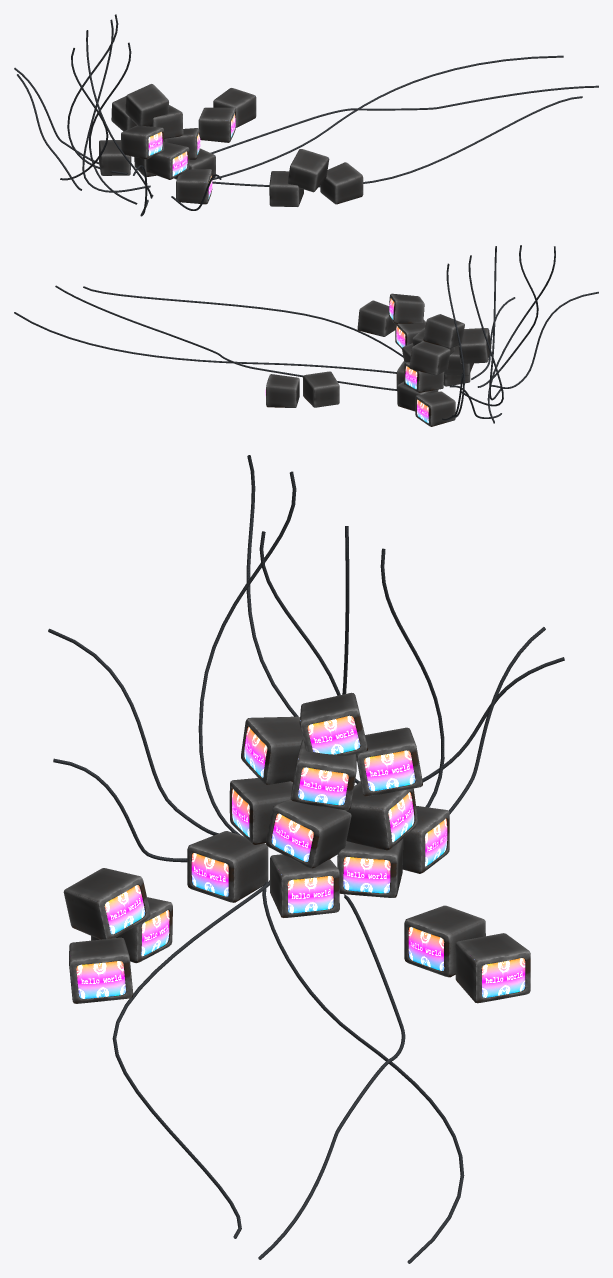
Rendered from white_box_television.fbx.
The picture shows the model from 3 angles, top to bottom: view 1: azimuth 30°, elevation 25°; view 2: azimuth 150°, elevation 25°; view 3: azimuth 270°, elevation 25°; orthographic projection. The views are drawn at different scales.
Parts seen in each view (by area): view 1: televison, cables, glass; view 2: televison, cables, glass; view 3: televison, glass, cables.
Part boxes in pixels (bbox=[...]): televison: bbox=[99, 84, 363, 206]; cables: bbox=[14, 14, 598, 216]; glass: bbox=[148, 113, 235, 198]; televison: bbox=[266, 293, 491, 426]; cables: bbox=[14, 245, 598, 423]; glass: bbox=[265, 298, 428, 423]; televison: bbox=[63, 692, 530, 1003]; glass: bbox=[76, 715, 525, 998]; cables: bbox=[48, 455, 564, 1263].
Size of the model in its own units: 3776 by 1207 by 1682.
